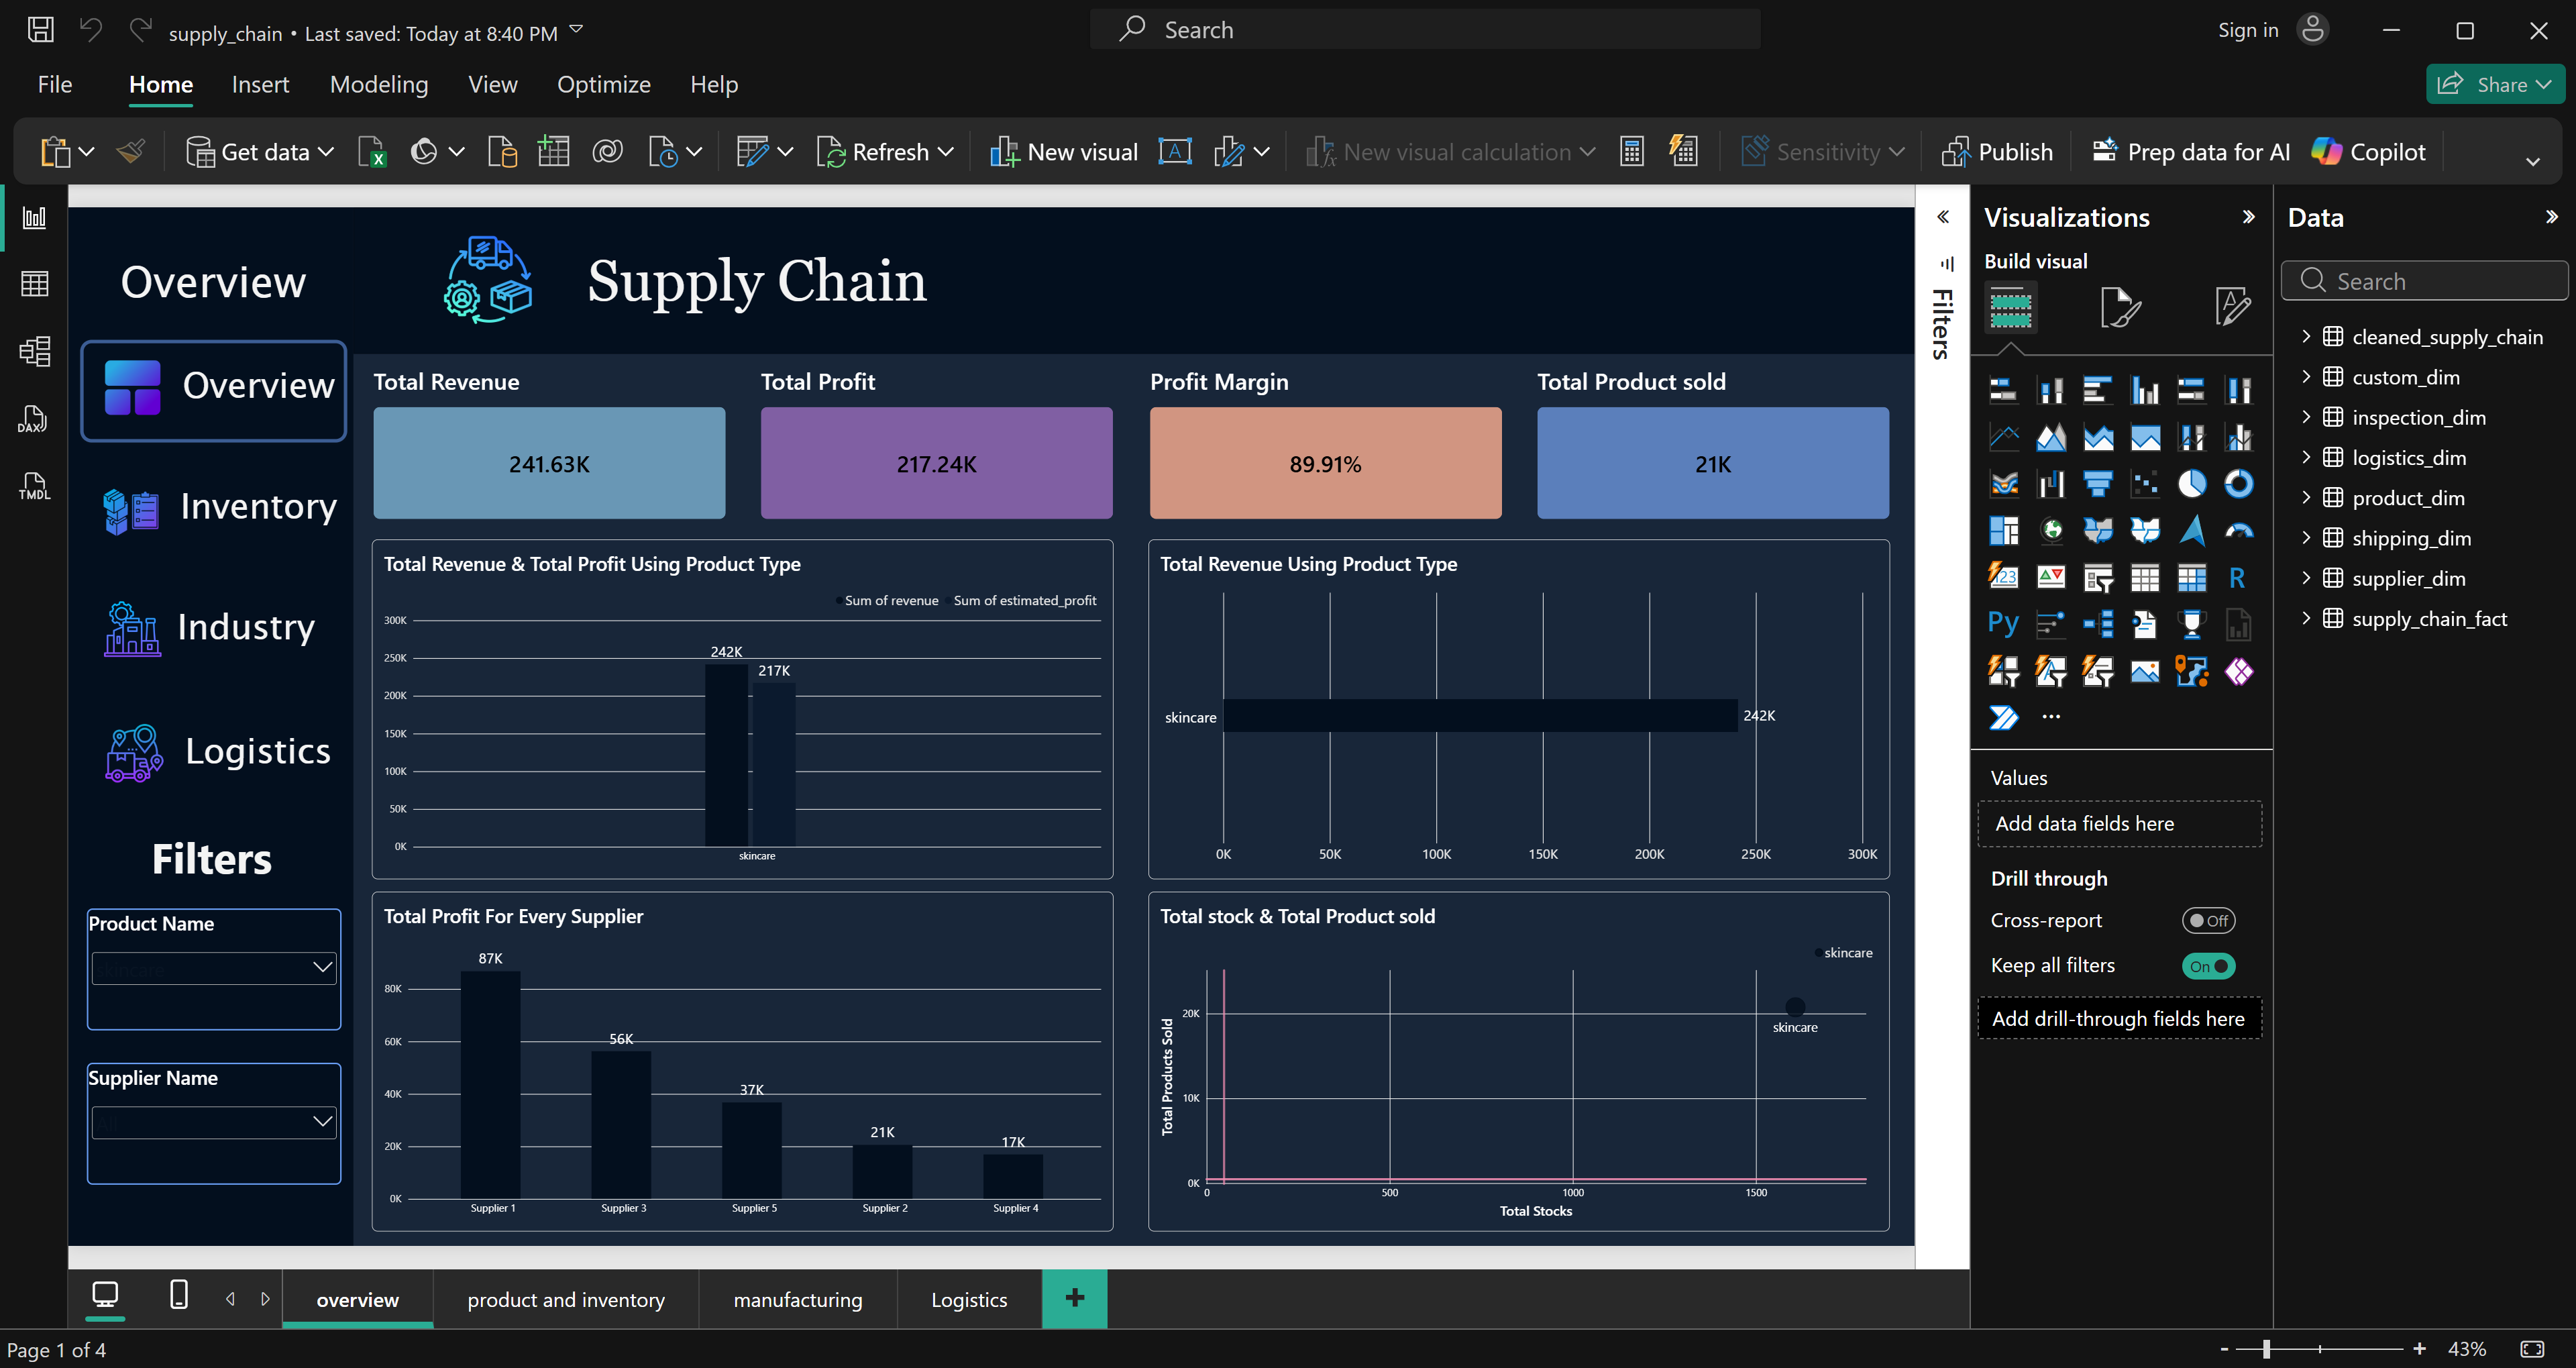

This screenshot's page, from the dashboard's own definition file:
{"tool":"powerbi","page":{"name":"overview","canvas":[2560,1440],"ordinal":0},"visuals":[{"type":"shape","box":[0,0,395.2,1440.8],"z":0},{"type":"shape","box":[395.2,0,2165.4,203.1],"z":1000},{"type":"image","box":[498.2,39.3,168.1,122.5],"z":2000},{"type":"textbox","box":[698.8,55.2,516.3,105.7],"z":3000},{"type":"cardVisual","title":"Total Revenue","fields":{"Data":["Sum(supply_chain_fact.revenue)","Sum(supply_chain_fact.revenue)"]},"box":[423,217.6,488.4,214],"z":4000},{"type":"cardVisual","title":"Total Profit","fields":{"Data":["Sum(supply_chain_fact.estimated_profit)"]},"box":[960.9,217.6,488.4,214],"z":5000},{"type":"cardVisual","title":"Profit Margin","fields":{"Data":["supply_chain_fact.profit margin"]},"box":[1498.9,217.6,488.4,214],"z":6000},{"type":"cardVisual","title":"Total Product sold","fields":{"Data":["Sum(supply_chain_fact.number_of_products_sold)"]},"box":[2036.8,218.4,488.4,214],"z":7000},{"type":"clusteredColumnChart","title":"Total Revenue & Total Profit Using Product Type","fields":{"Category":["product_dim.product_name"],"Y":["Sum(supply_chain_fact.revenue)","Sum(supply_chain_fact.estimated_profit)"]},"box":[422.1,461.4,1028.2,471.2],"z":8000},{"type":"clusteredBarChart","title":"Total Revenue Using Product Type","fields":{"Category":["product_dim.product_name"],"Y":["Sum(supply_chain_fact.revenue)"]},"box":[1496.9,461.4,1028.2,471.2],"z":9000},{"type":"clusteredColumnChart","title":"Total Profit For Every Supplier","fields":{"Y":["Sum(supply_chain_fact.estimated_profit)"],"Category":["supplier_dim.supplier_name"]},"box":[422.1,949.7,1028.2,471.2],"z":10000},{"type":"scatterChart","title":"Total stock & Total Product sold","fields":{"X":["Sum(supply_chain_fact.stock)"],"Y":["Sum(supply_chain_fact.number_of_products_sold)"],"Series":["product_dim.product_name"]},"box":[1496.9,949.7,1028,471],"z":11000},{"type":"textbox","box":[68.7,61.4,262.6,100.6],"z":12000},{"type":"image","box":[49.1,206.1,81,85.9],"z":13000},{"type":"textbox","box":[132.5,211,262.6,81],"z":14000},{"type":"image","box":[49.1,382.8,76.1,78.5],"z":15000},{"type":"textbox","box":[132.5,377.9,262.6,81],"z":16000},{"type":"image","box":[49.1,542.3,81,85.9],"z":17000},{"type":"textbox","box":[130.1,547.2,262.6,81],"z":18000},{"type":"image","box":[51.5,714.1,81,85.9],"z":19000},{"type":"textbox","box":[132.5,719,262.6,81],"z":20000},{"type":"shape","box":[17.2,184.1,370.6,142.3],"z":21000},{"type":"textbox","box":[49.1,861.4,299.4,88.3],"z":22000},{"type":"slicer","title":"Product Name","fields":{"Values":["product_dim.product_name"]},"box":[24.5,971.8,353.4,169.3],"z":23000},{"type":"slicer","title":"Supplier Name","fields":{"Values":["supplier_dim.supplier_name"]},"box":[24.5,1185.3,353.4,169.3],"z":24000}]}

Visuals, with their boxes on the page's 2560x1440 design canvas (x1, y1, x2, y2). These are canvas units, not pixel positions in the 2576x1368 screenshot, which may show the page scaled, cropped or inside an application window:
shape: pyautogui.locateOnScreen(0, 0, 395, 1441)
shape: pyautogui.locateOnScreen(395, 0, 2561, 203)
image: pyautogui.locateOnScreen(498, 39, 666, 162)
textbox: pyautogui.locateOnScreen(699, 55, 1215, 161)
"Total Revenue" cardVisual: pyautogui.locateOnScreen(423, 218, 911, 432)
"Total Profit" cardVisual: pyautogui.locateOnScreen(961, 218, 1449, 432)
"Profit Margin" cardVisual: pyautogui.locateOnScreen(1499, 218, 1987, 432)
"Total Product sold" cardVisual: pyautogui.locateOnScreen(2037, 218, 2525, 432)
"Total Revenue & Total Profit Using Product Type" clusteredColumnChart: pyautogui.locateOnScreen(422, 461, 1450, 933)
"Total Revenue Using Product Type" clusteredBarChart: pyautogui.locateOnScreen(1497, 461, 2525, 933)
"Total Profit For Every Supplier" clusteredColumnChart: pyautogui.locateOnScreen(422, 950, 1450, 1421)
"Total stock & Total Product sold" scatterChart: pyautogui.locateOnScreen(1497, 950, 2525, 1421)
textbox: pyautogui.locateOnScreen(69, 61, 331, 162)
image: pyautogui.locateOnScreen(49, 206, 130, 292)
textbox: pyautogui.locateOnScreen(132, 211, 395, 292)
image: pyautogui.locateOnScreen(49, 383, 125, 461)
textbox: pyautogui.locateOnScreen(132, 378, 395, 459)
image: pyautogui.locateOnScreen(49, 542, 130, 628)
textbox: pyautogui.locateOnScreen(130, 547, 393, 628)
image: pyautogui.locateOnScreen(52, 714, 132, 800)
textbox: pyautogui.locateOnScreen(132, 719, 395, 800)
shape: pyautogui.locateOnScreen(17, 184, 388, 326)
textbox: pyautogui.locateOnScreen(49, 861, 348, 950)
"Product Name" slicer: pyautogui.locateOnScreen(24, 972, 378, 1141)
"Supplier Name" slicer: pyautogui.locateOnScreen(24, 1185, 378, 1355)
